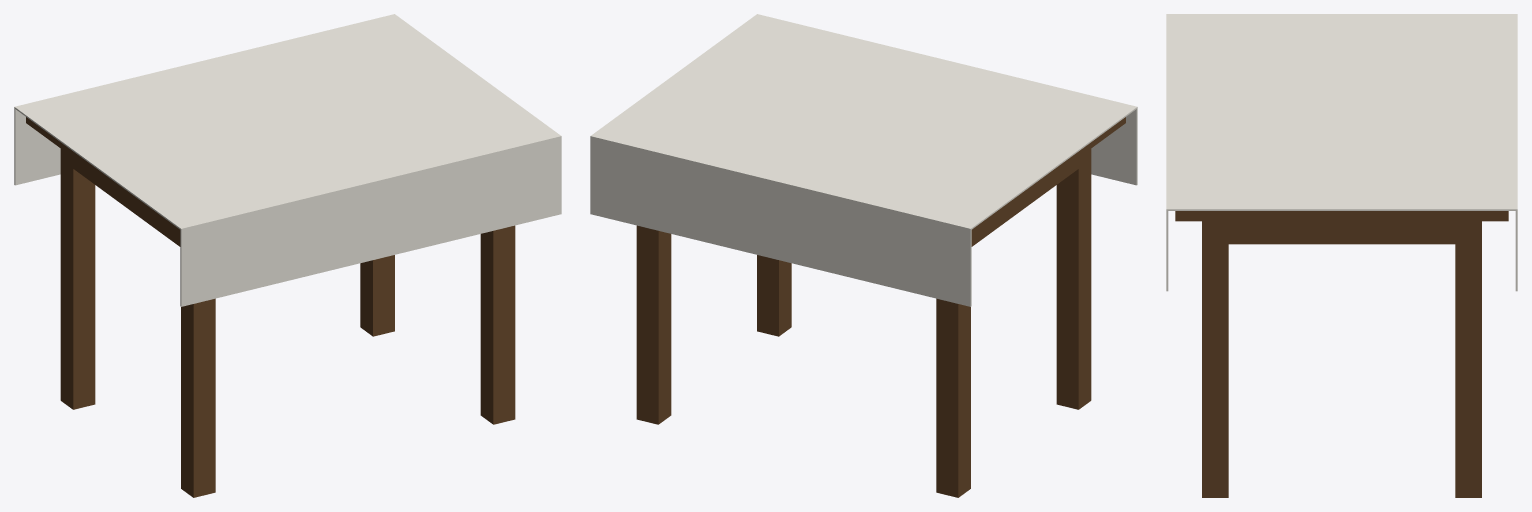
The picture shows the model from 3 angles, left to right: view 1: azimuth 30°, elevation 25°; view 2: azimuth 150°, elevation 25°; view 3: azimuth 270°, elevation 25°; orthographic projection. The views are drawn at different scales.
Parts seen in each view (by area): view 1: parametric-variant-table-1st-pub-97d06ce01e6a5be3790f; view 2: parametric-variant-table-1st-pub-97d06ce01e6a5be3790f; view 3: parametric-variant-table-1st-pub-97d06ce01e6a5be3790f.
Boxes of the visible parts, x1,y1,x2,y2 form: parametric-variant-table-1st-pub-97d06ce01e6a5be3790f: (14, 14, 561, 497); parametric-variant-table-1st-pub-97d06ce01e6a5be3790f: (590, 14, 1137, 497); parametric-variant-table-1st-pub-97d06ce01e6a5be3790f: (1166, 14, 1517, 497).
Size of the model in its own units: 1.04 by 0.754 by 0.79.
